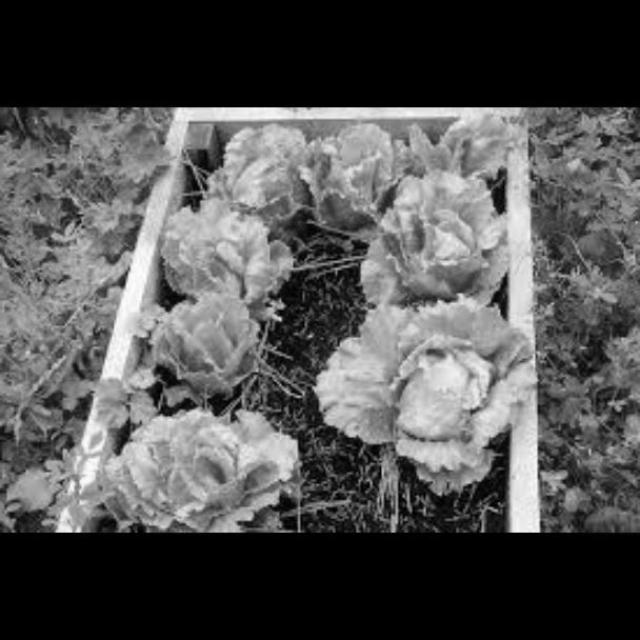xa lach: (122, 120, 518, 531)
